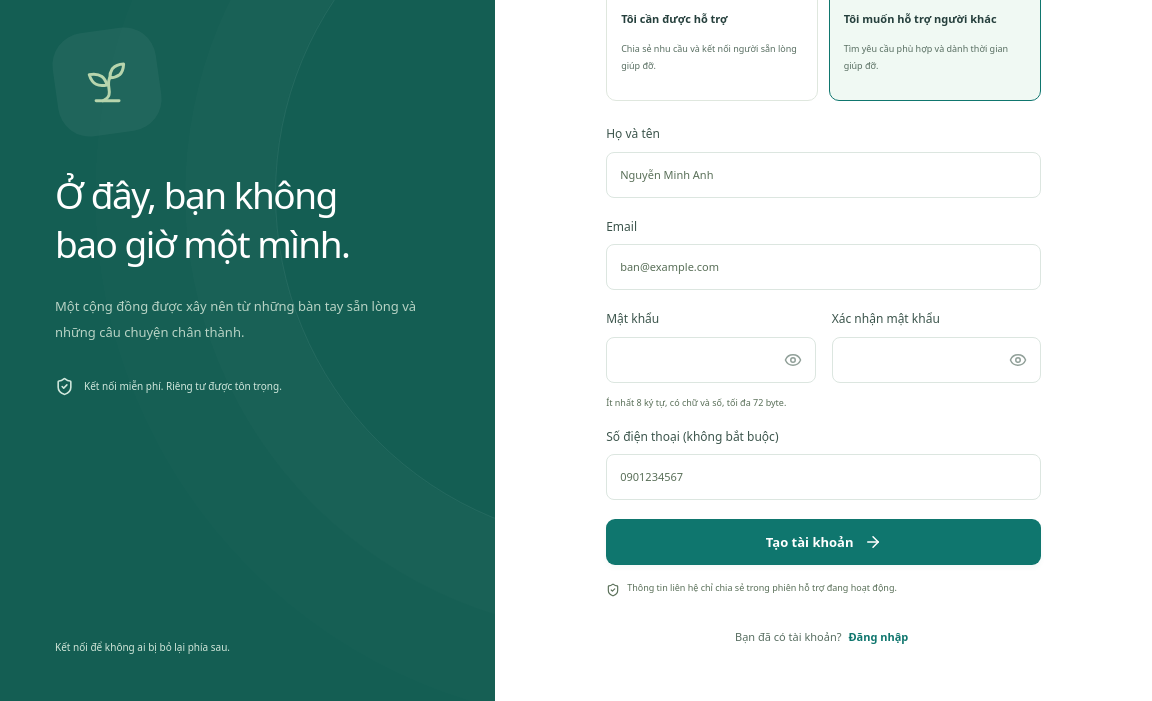
authentication forms and safe routing › shows field errors and prevents an invalid registration
This screenshot has width=1152, height=701.
(page scrolled)
Click the button "Tạo tài khoản". click: click(824, 542)
box: [606,519,1041,565]
(page scrolled)
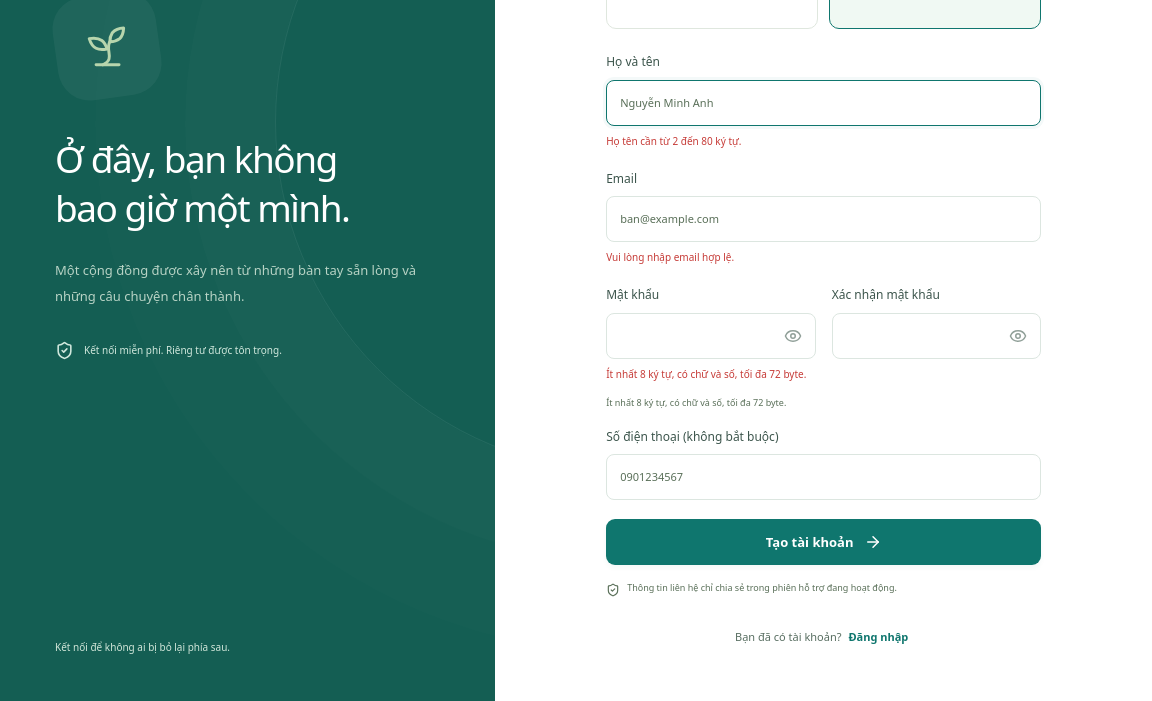
expect the text "Vui lòng nhập email hợp lệ." is shown: met, box [606,250,734,264]
expect the text "Họ tên cần từ 2 đến 80 ký tự." is shown: met, box [606,134,742,148]
